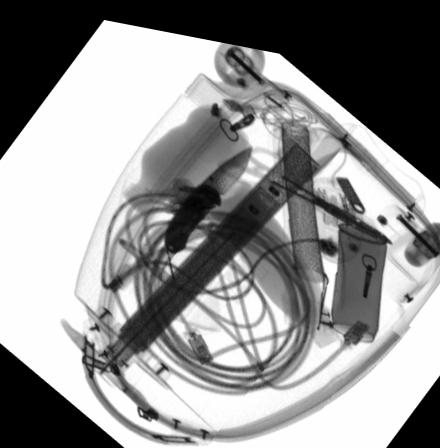Knife: (163, 135, 250, 246)
Scissors: (218, 138, 395, 230)
